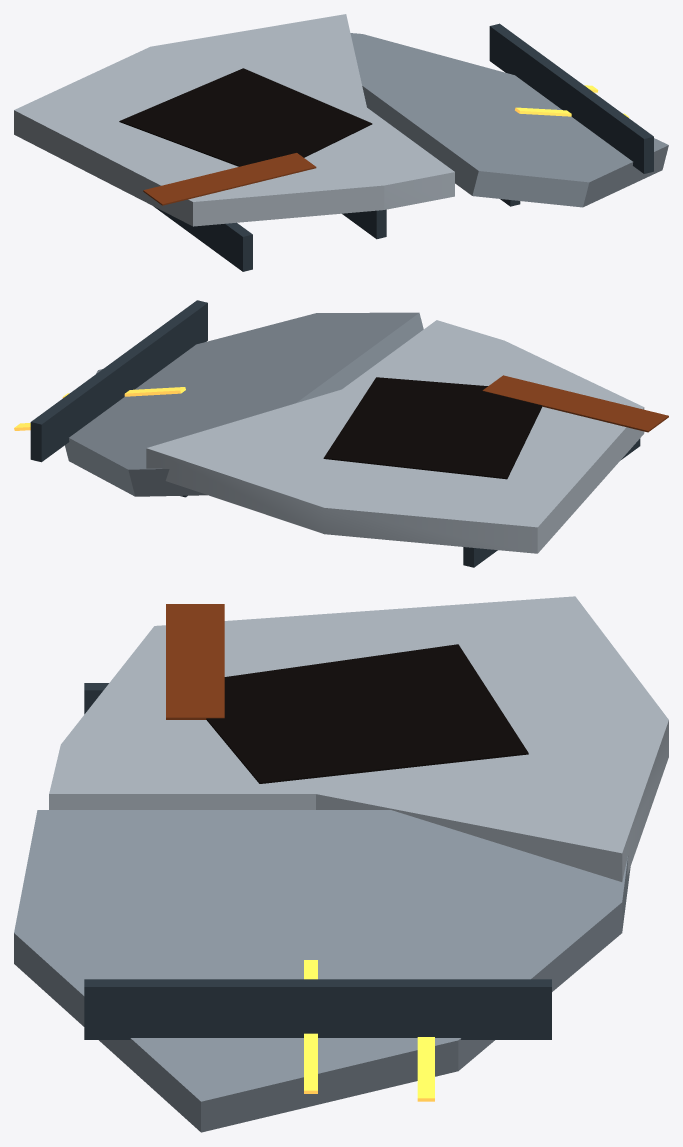
File: debris_plate.glb
3 renders of one model, top to bottom at view 1: azimuth 30°, elevation 25°; view 2: azimuth 150°, elevation 25°; view 3: azimuth 270°, elevation 25°, orthographic. The views are drawn at different scales.
Visible parts, largest first — view 1: plate_a_body, plate_b_body, scorch, ribs, plate_a_full, rust, hot_edge; view 2: plate_a_body, plate_b_body, scorch, plate_a_full, ribs, rust, hot_edge; view 3: plate_b_body, plate_a_body, scorch, ribs, plate_a_full, rust, hot_edge.
Boxes of the visible parts, bbox=[...] form: plate_a_body: bbox=[14, 14, 384, 226]; plate_b_body: bbox=[350, 33, 668, 207]; scorch: bbox=[119, 68, 372, 166]; ribs: bbox=[153, 23, 653, 271]; plate_a_full: bbox=[15, 32, 454, 209]; rust: bbox=[143, 153, 316, 205]; hot_edge: bbox=[515, 85, 629, 117]; plate_a_body: bbox=[146, 340, 644, 553]; plate_b_body: bbox=[65, 312, 423, 496]; scorch: bbox=[323, 377, 542, 479]; plate_a_full: bbox=[259, 320, 537, 527]; ribs: bbox=[30, 300, 640, 567]; rust: bbox=[482, 375, 668, 432]; hot_edge: bbox=[14, 387, 185, 430]; plate_b_body: bbox=[14, 810, 630, 1132]; plate_a_body: bbox=[61, 596, 668, 881]; scorch: bbox=[206, 644, 528, 783]; ribs: bbox=[84, 683, 551, 1039]; plate_a_full: bbox=[49, 597, 668, 809]; rust: bbox=[166, 604, 224, 719]; hot_edge: bbox=[304, 960, 434, 1101].
Bounding box in the file's own units: 7.96 × 1.42 × 5.6.
